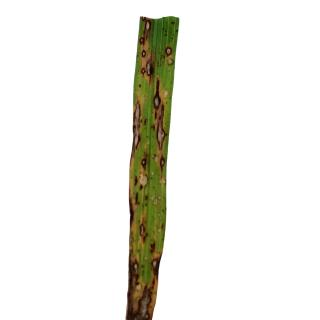Blast: (132, 280, 152, 320), (154, 102, 168, 154), (149, 73, 162, 121), (136, 220, 159, 245), (133, 170, 155, 193), (139, 16, 155, 47), (129, 258, 141, 294), (134, 101, 140, 152), (143, 60, 156, 79), (156, 155, 167, 173), (150, 254, 158, 278), (167, 56, 174, 68), (164, 46, 172, 56)
